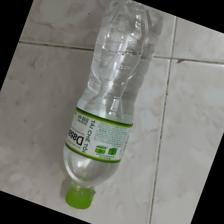Dasani: (59, 1, 166, 210)
